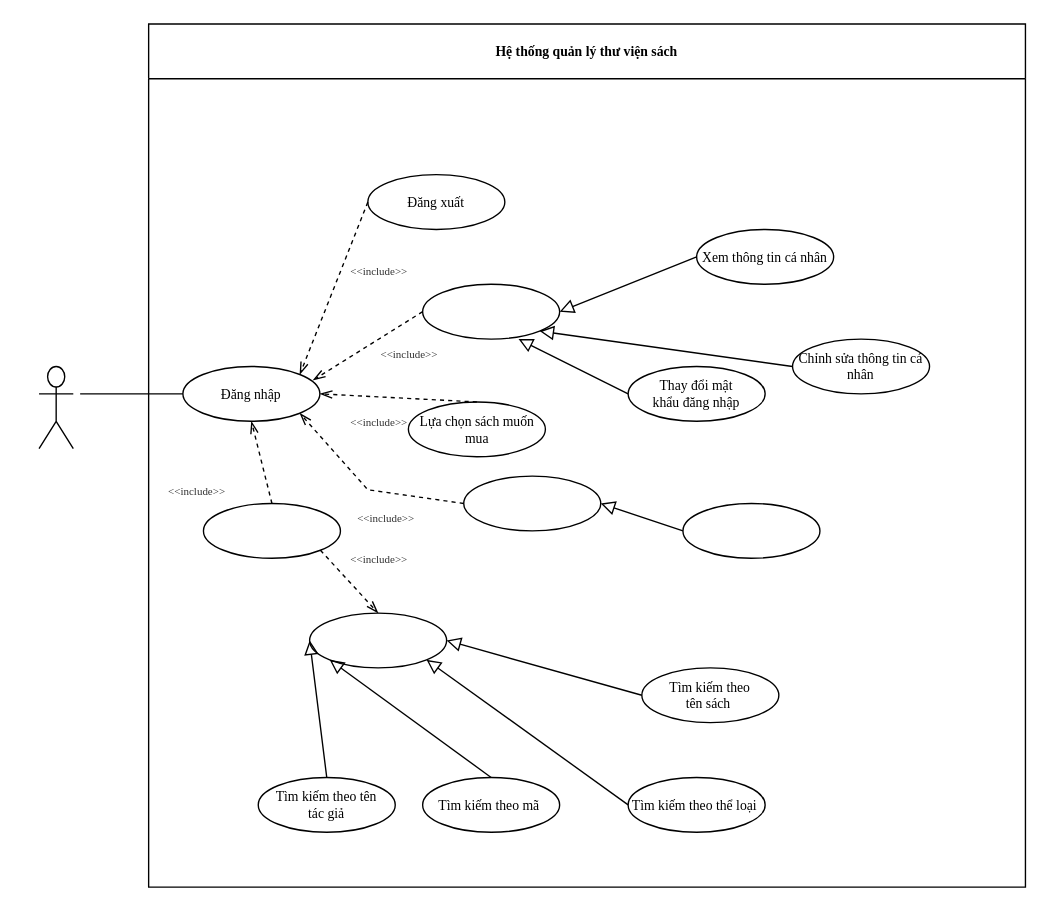
This 1049x911 diagram has some shape labels left out. Here are the shapes that lost their labels. From the top down, the box of each, then its label:
(421, 283, 560, 339): Quản lý thông tin cá nhân
(38, 365, 73, 449): Khách hàng
(462, 475, 601, 531): Xem lịch sử mua sách
(202, 502, 340, 558): Xem thông tin sách
(682, 502, 820, 558): Xem thông tin hóa đơn
(308, 612, 447, 668): Tìm kiếm
